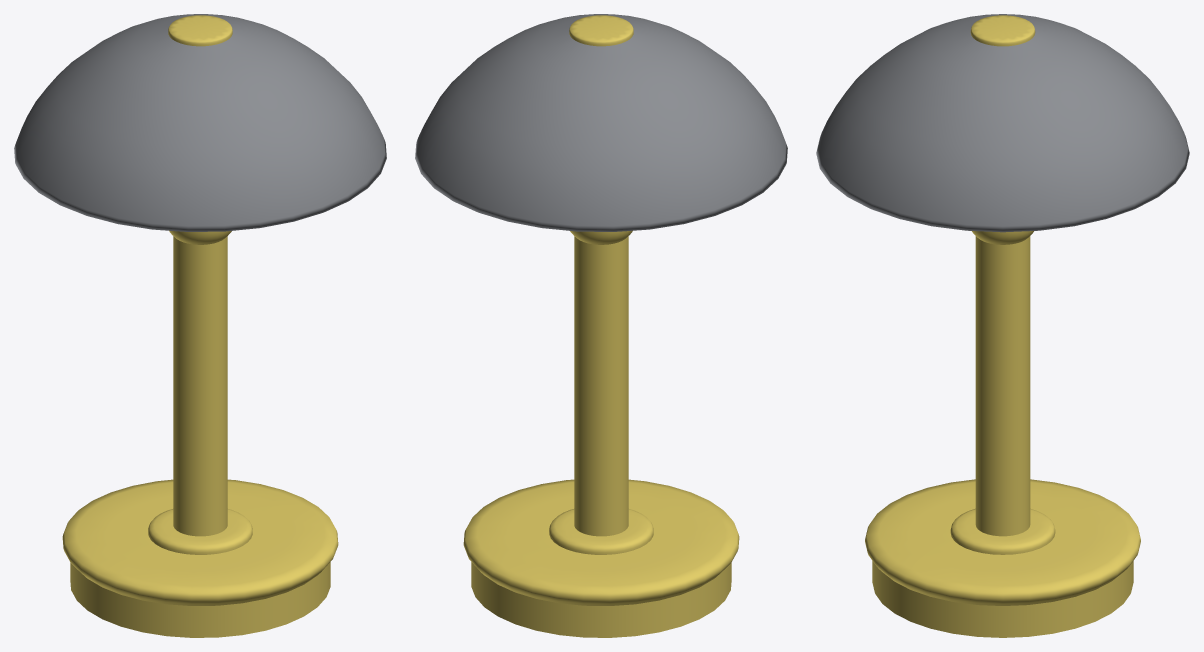
Rendered from lamp_desk.glb.
3 views of the same model, side by side, from view 1: azimuth 30°, elevation 25°; view 2: azimuth 150°, elevation 25°; view 3: azimuth 270°, elevation 25° (orthographic).
Parts seen in each view (by area): view 1: Cylinder.001, Cylinder; view 2: Cylinder.001, Cylinder; view 3: Cylinder.001, Cylinder.
Part boxes in pixels (<box>): Cylinder.001: <box>14,14,386,231</box>; Cylinder: <box>62,230,338,637</box>; Cylinder.001: <box>415,14,787,231</box>; Cylinder: <box>463,230,739,637</box>; Cylinder.001: <box>816,14,1189,232</box>; Cylinder: <box>865,231,1140,637</box>.
Bounding box in the file's own units: 0.244 × 0.4 × 0.244.
